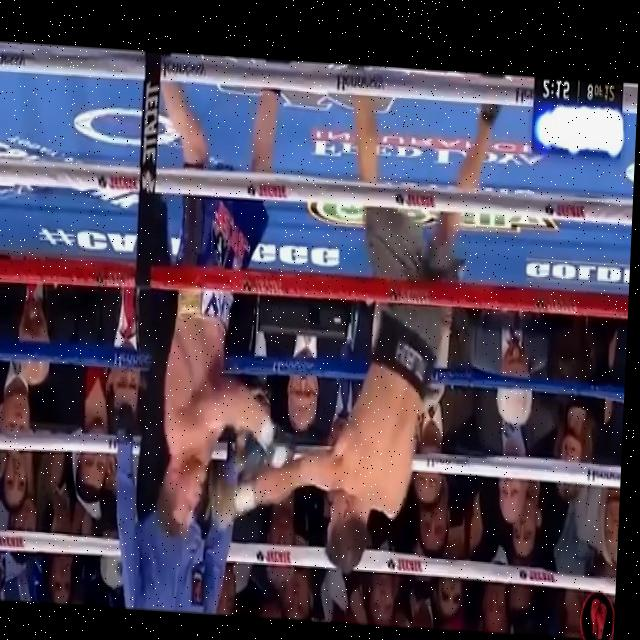Jab: (209, 362, 383, 539)
